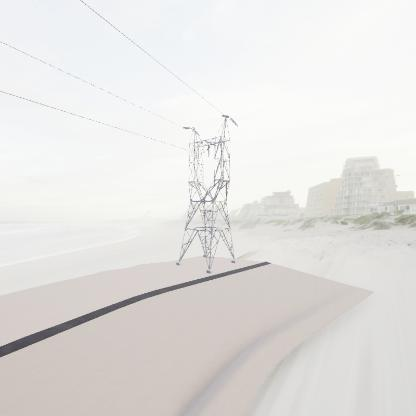tower: (173, 114, 240, 277)
